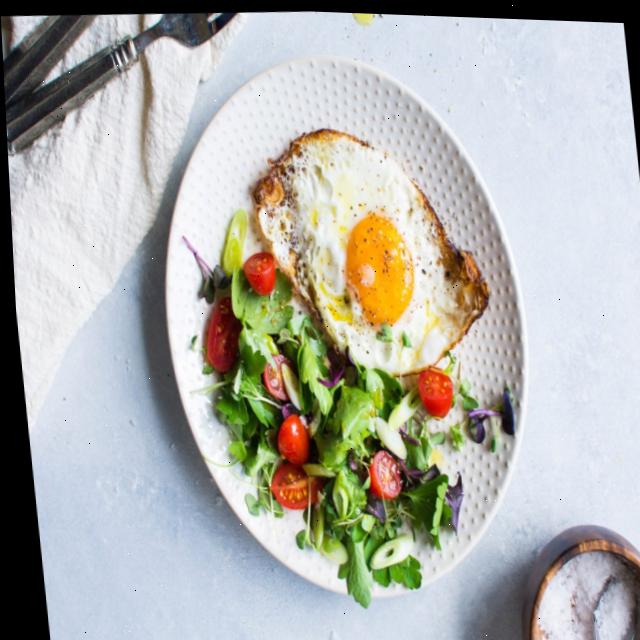Egg: (251, 127, 486, 372)
